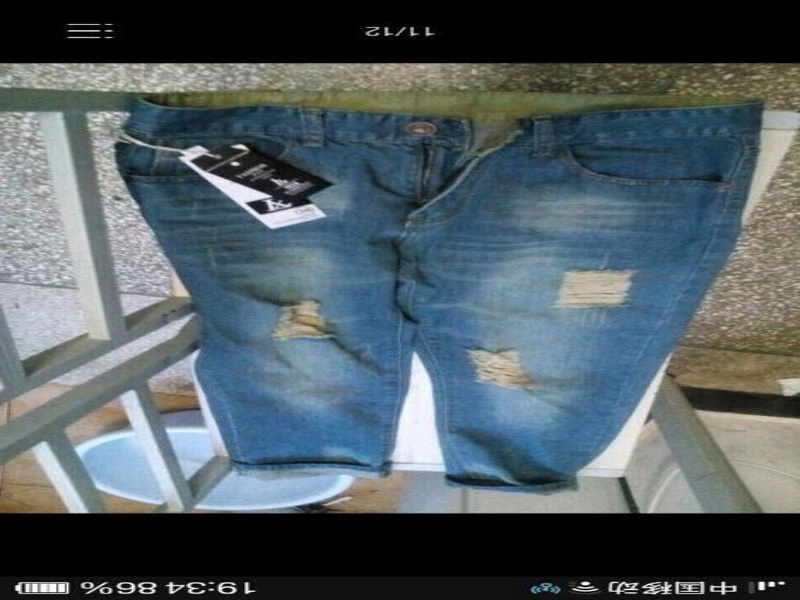trousers: (101, 85, 778, 501)
